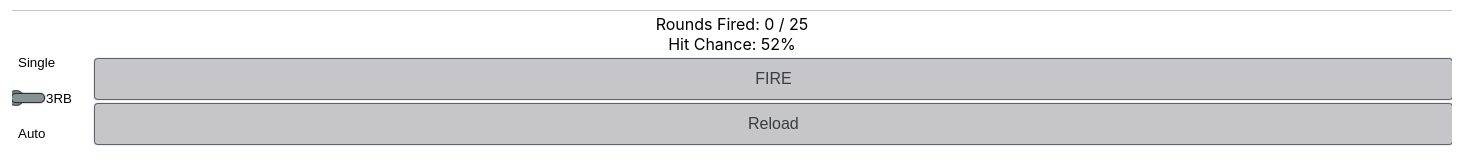
Test: Ammo Used Tally › should add 3 rounds for three round burst
Click the button "FIRE".
click(773, 79)  # box [95,59,1452,99]
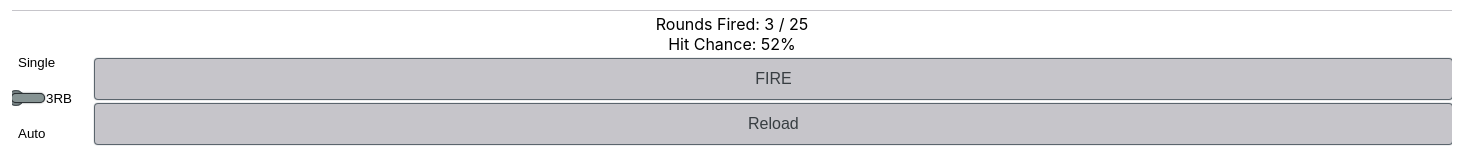
Now the element with class "firing" shows "Rounds Fired: 3"
